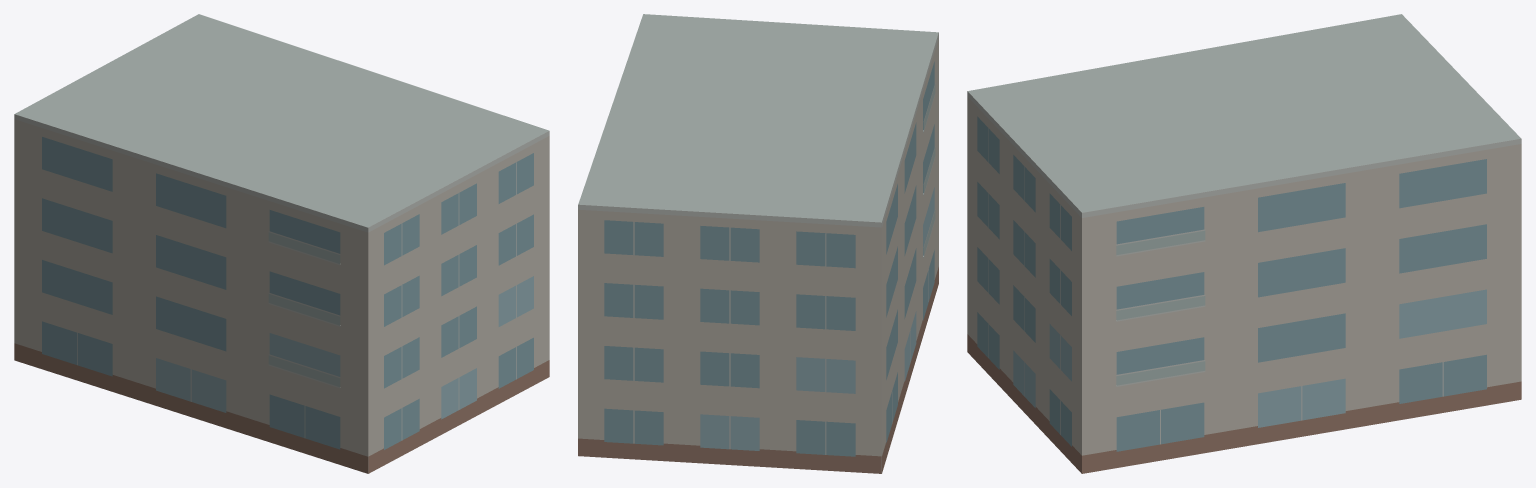
Rendered from survey-upis-32598900.glb.
3 views of the same model, side by side, from view 1: azimuth 30°, elevation 25°; view 2: azimuth 150°, elevation 25°; view 3: azimuth 270°, elevation 25° (orthographic). The views are drawn at different scales.
Visible parts, largest first — view 1: survey-upis-32598900.tmp; view 2: survey-upis-32598900.tmp; view 3: survey-upis-32598900.tmp.
Boxes of the visible parts, x1,y1,x2,y2 form: survey-upis-32598900.tmp: (14,14,549,473); survey-upis-32598900.tmp: (578,14,938,473); survey-upis-32598900.tmp: (967,14,1521,473).
Bounding box in the file's own units: 19.95 × 12.2 × 23.48.
